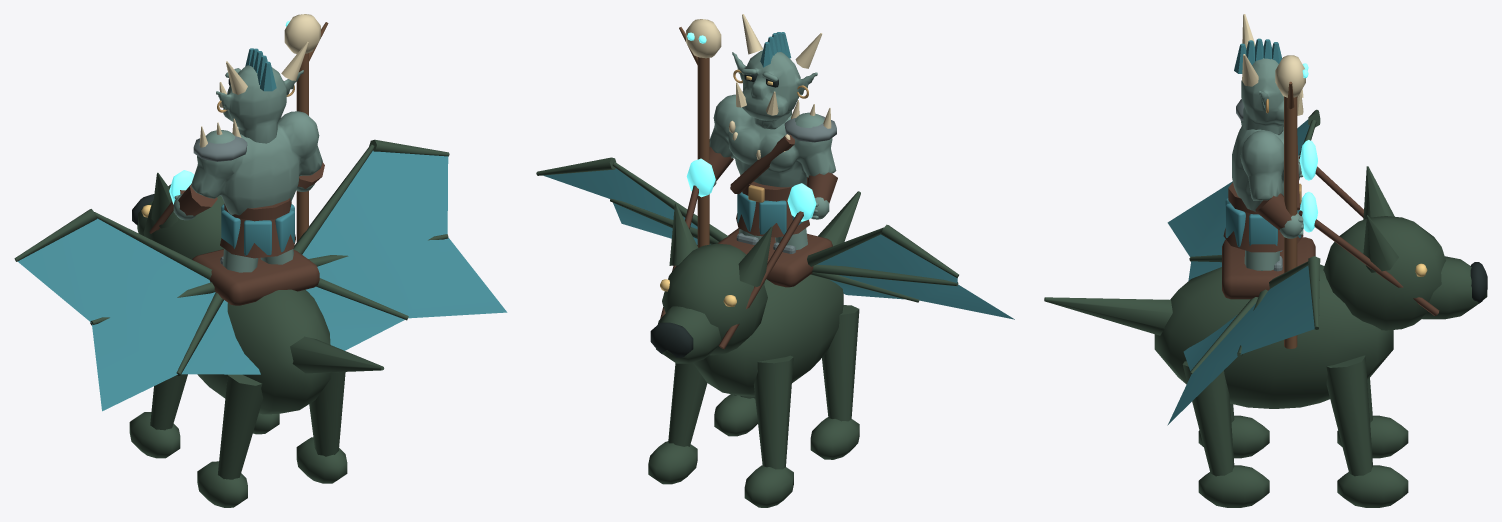
File: host_27.glb
3 views of the same model, side by side, from view 1: azimuth 30°, elevation 25°; view 2: azimuth 150°, elevation 25°; view 3: azimuth 270°, elevation 25° (orthographic). The views are drawn at different scales.
Parts seen in each view (by area): view 1: mesh_Cloth.002, mesh_Cloth.001, mesh_Shadow.002, mesh_Skin.002, mesh_Leather.002, mesh_Shadow.003, mesh_Shadow.005, mesh_Shadow.007, mesh_Shadow.004, mesh_Shadow.008, mesh_Cloth.026, mesh_Bone.026 (+3 smaller); view 2: mesh_Shadow.002, mesh_Skin.002, mesh_Leather.002, mesh_Cloth.001, mesh_Shadow.004, mesh_Shadow.003, mesh_Shadow.006, mesh_Cloth.002, mesh_Shadow.007, mesh_Bone.026, mesh_Shadow.008, mesh_Wood.026 (+5 smaller); view 3: mesh_Shadow.002, mesh_Skin.002, mesh_Cloth.002, mesh_Shadow.006, mesh_Leather.002, mesh_Shadow.005, mesh_Cloth.001, mesh_Cloth.026, mesh_Wood.026, mesh_Bone.026, mesh_Shadow.008, mesh_Shadow.004 (+5 smaller).
Boxes of the visible parts, <box> form: mesh_Cloth.002: <box>302,150,507,350</box>; mesh_Cloth.001: <box>17,218,260,411</box>; mesh_Shadow.002: <box>137,172,384,414</box>; mesh_Skin.002: <box>173,65,322,220</box>; mesh_Leather.002: <box>149,162,324,305</box>; mesh_Shadow.003: <box>197,374,263,507</box>; mesh_Shadow.005: <box>296,372,347,483</box>; mesh_Shadow.007: <box>14,209,223,376</box>; mesh_Shadow.004: <box>129,374,187,458</box>; mesh_Shadow.008: <box>293,139,449,320</box>; mesh_Cloth.026: <box>221,48,294,255</box>; mesh_Bone.026: <box>199,14,320,147</box>; mesh_Shadow.002: <box>656,191,860,396</box>; mesh_Skin.002: <box>709,50,836,219</box>; mesh_Leather.002: <box>660,135,837,349</box>; mesh_Cloth.001: <box>817,234,1014,319</box>; mesh_Shadow.004: <box>744,355,793,507</box>; mesh_Shadow.003: <box>810,305,859,459</box>; mesh_Shadow.006: <box>648,363,707,484</box>; mesh_Cloth.002: <box>543,168,710,244</box>; mesh_Shadow.007: <box>807,224,958,302</box>; mesh_Bone.026: <box>686,14,831,159</box>; mesh_Shadow.008: <box>536,157,728,245</box>; mesh_Wood.026: <box>679,27,709,247</box>; mesh_Shadow.002: <box>1044,166,1487,408</box>; mesh_Skin.002: <box>1232,58,1303,238</box>; mesh_Cloth.002: <box>1167,265,1314,425</box>; mesh_Shadow.006: <box>1326,355,1408,507</box>; mesh_Leather.002: <box>1222,136,1439,315</box>; mesh_Shadow.005: <box>1182,361,1269,507</box>; mesh_Cloth.001: <box>1167,119,1309,280</box>; mesh_Cloth.026: <box>1225,38,1301,247</box>; mesh_Wood.026: <box>1284,81,1297,348</box>; mesh_Bone.026: <box>1242,14,1305,115</box>; mesh_Shadow.008: <box>1189,256,1320,374</box>; mesh_Shadow.004: <box>1337,378,1408,458</box>.
Size of the model in its own units: 2.03 by 1.98 by 1.75.
